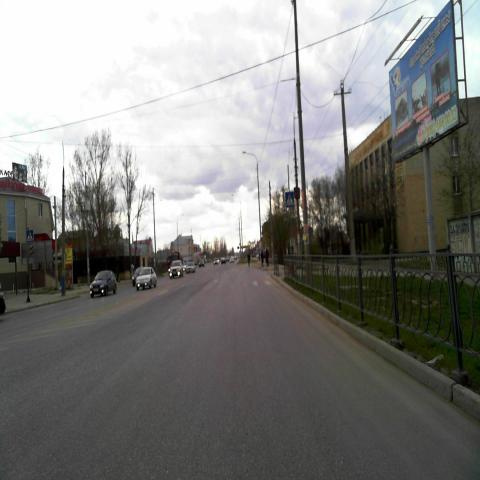5_19_1: (285, 191, 294, 207), (26, 230, 34, 242)
